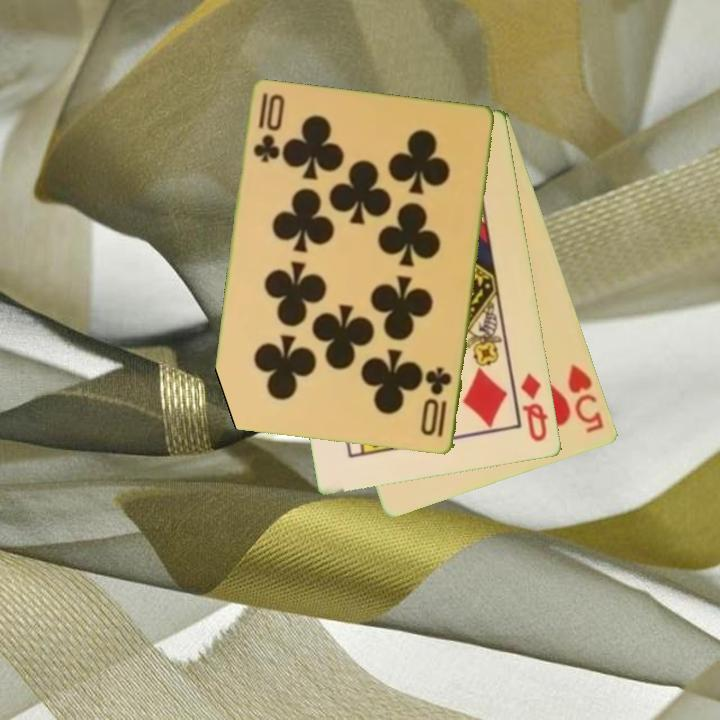10c: (418, 364, 455, 441), (250, 90, 280, 166)
5h: (564, 360, 607, 436)
Qd: (518, 369, 552, 445)
